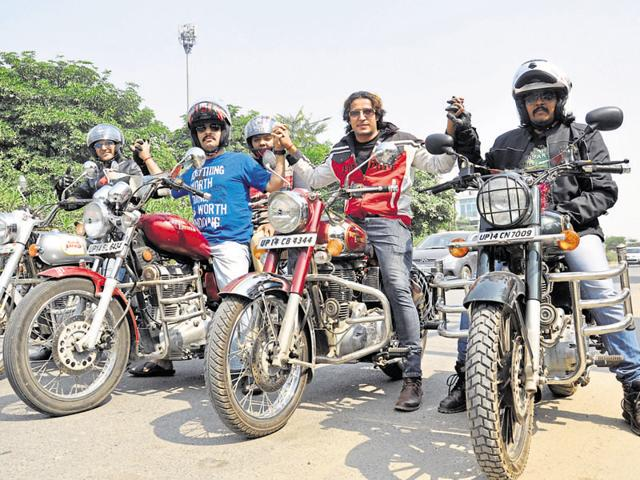helmet: (507, 55, 574, 107), (191, 102, 235, 142), (83, 122, 123, 151)
